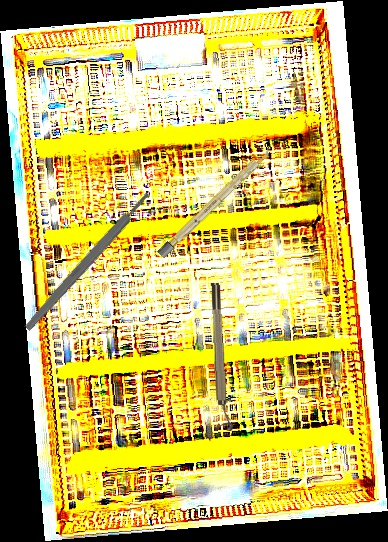Fixation Ring: (208, 282, 234, 432)
Scalpel Handle: (22, 190, 153, 333), (156, 145, 275, 259)
